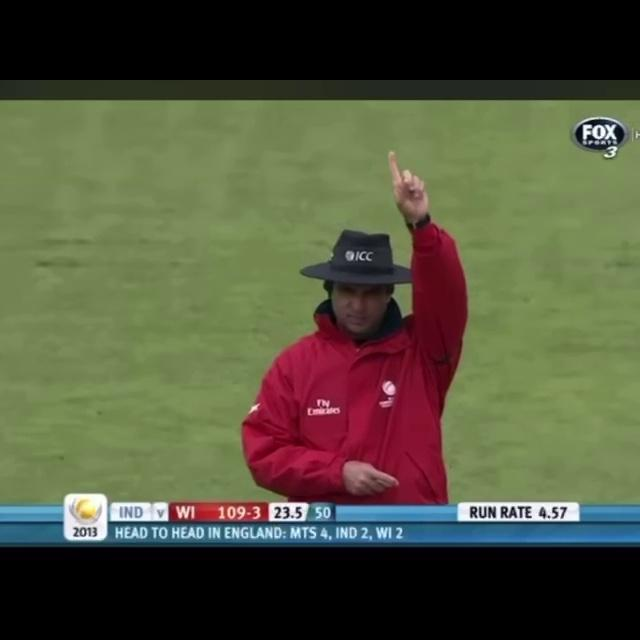umpire: (203, 141, 477, 502)
